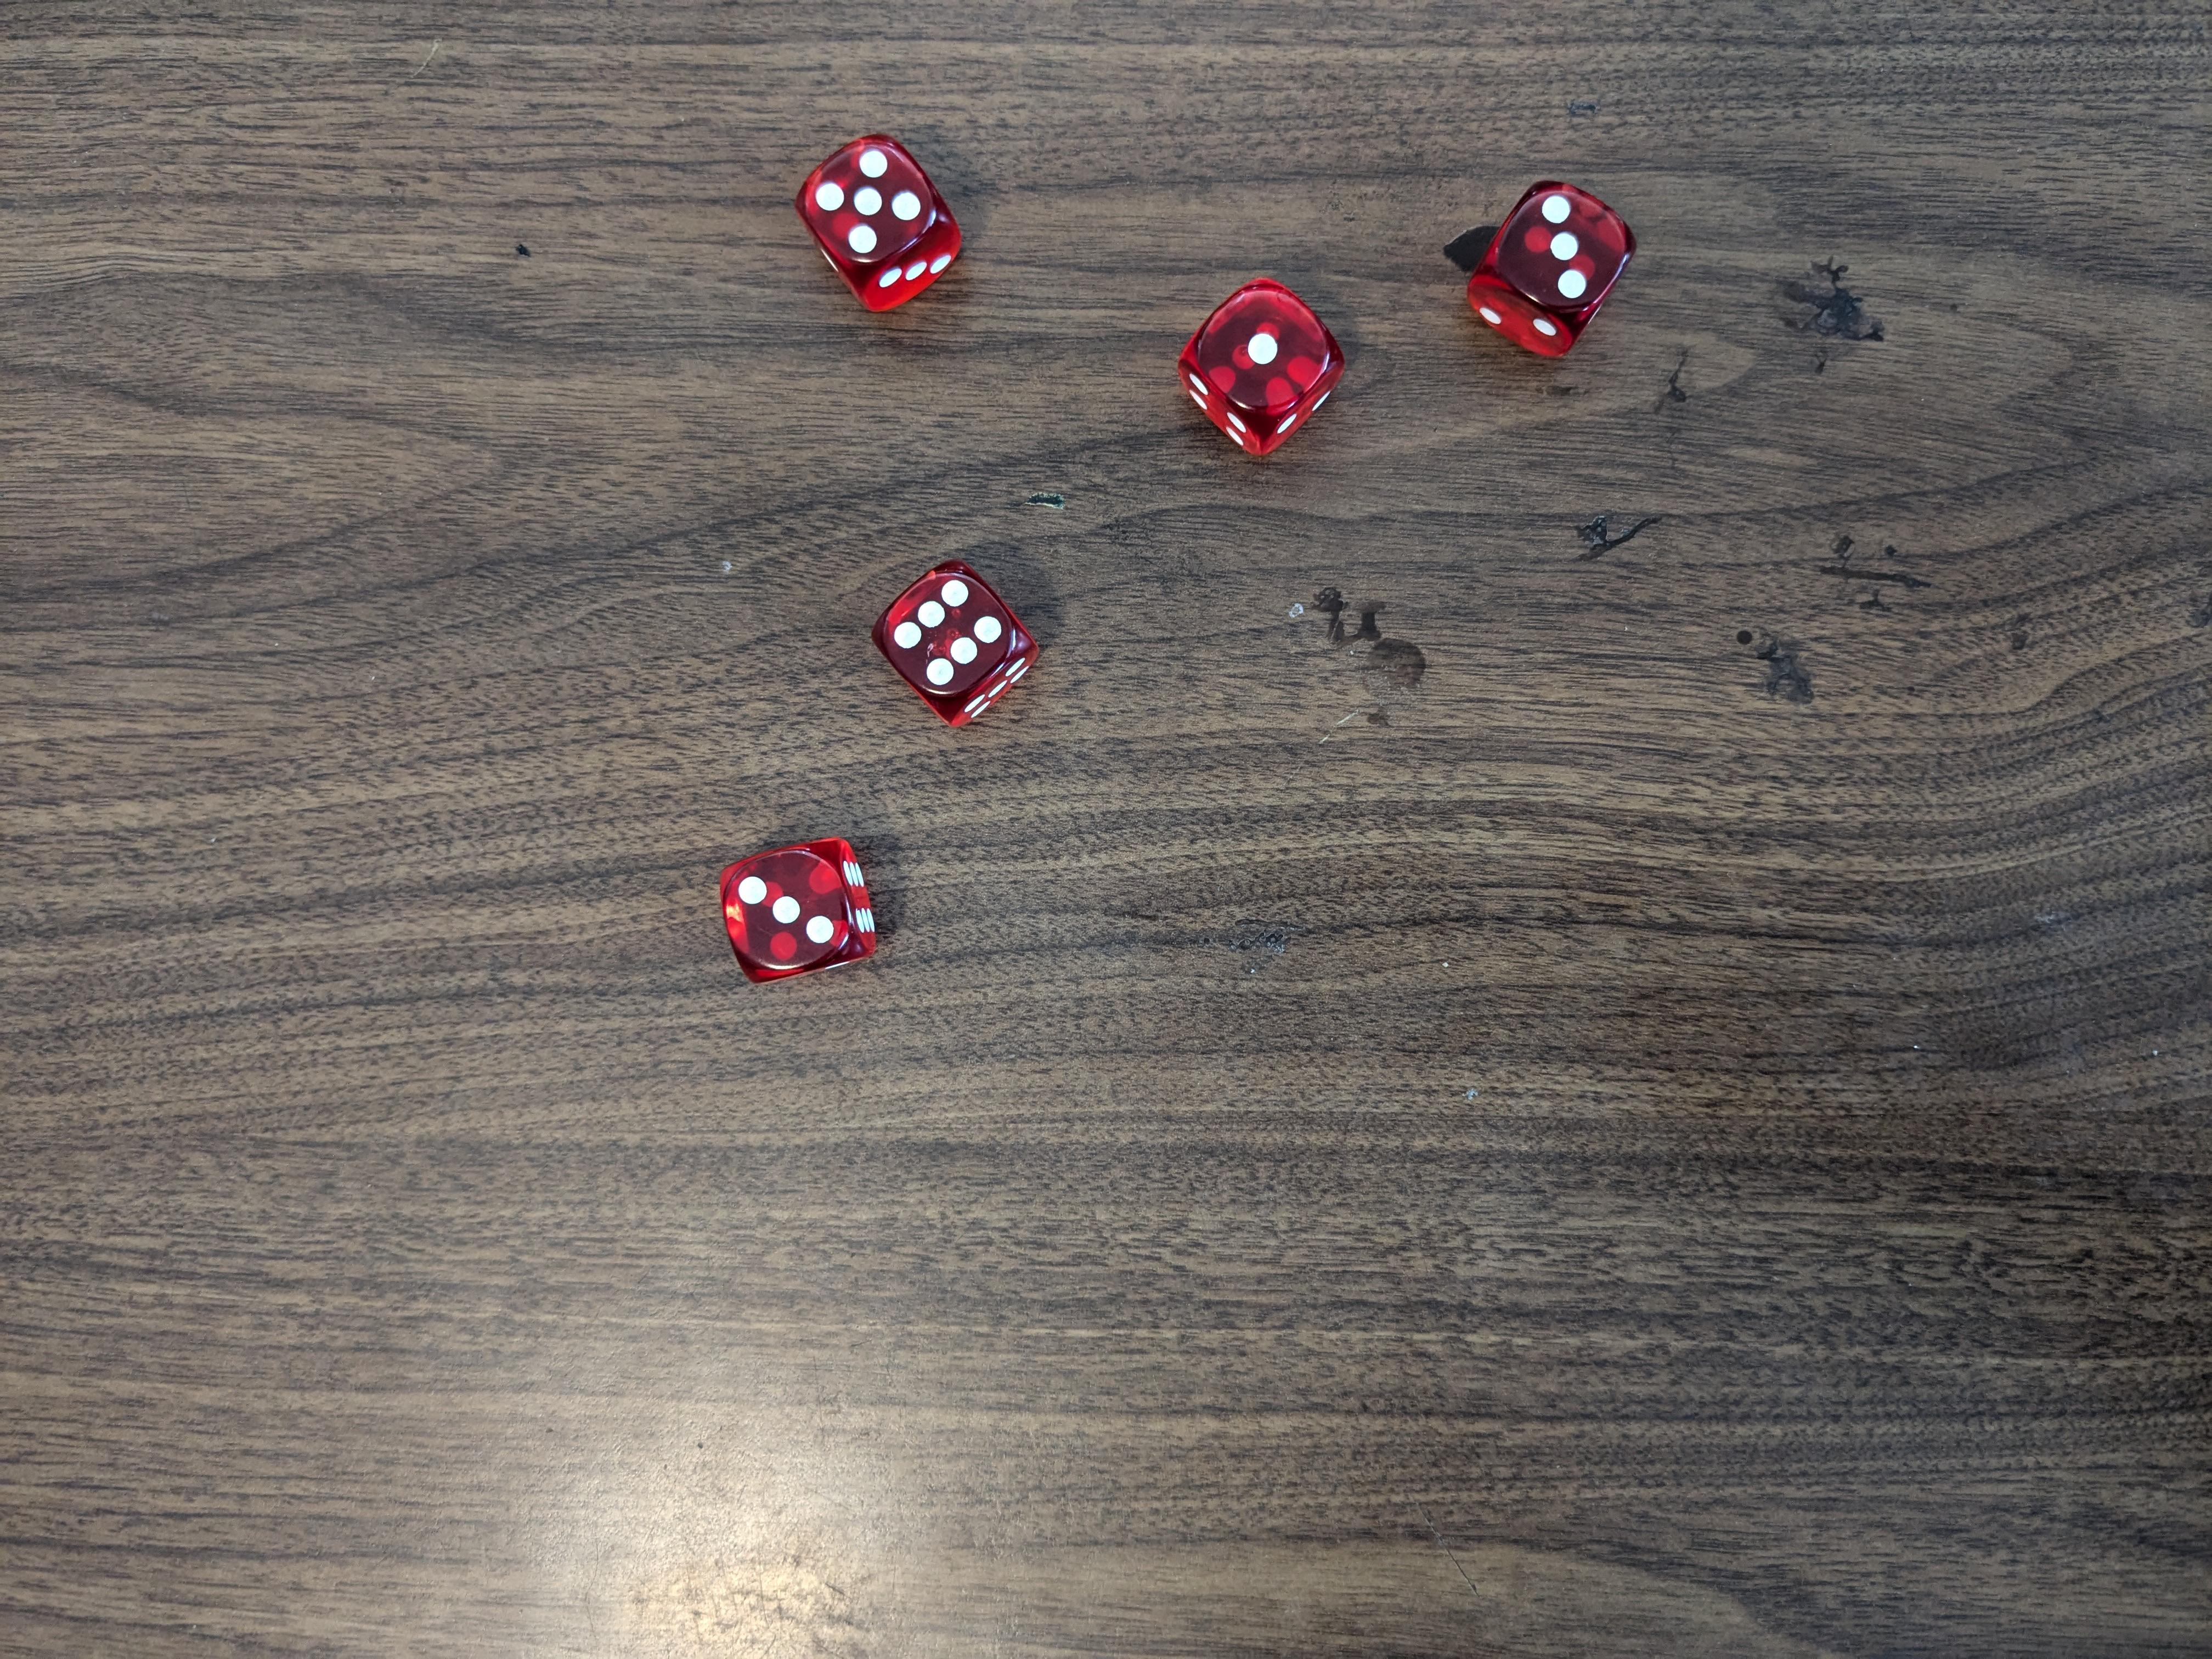five: (801, 129, 965, 307)
one: (1186, 274, 1339, 453)
six: (880, 556, 1035, 725)
three: (1465, 181, 1634, 361), (718, 830, 880, 988)
